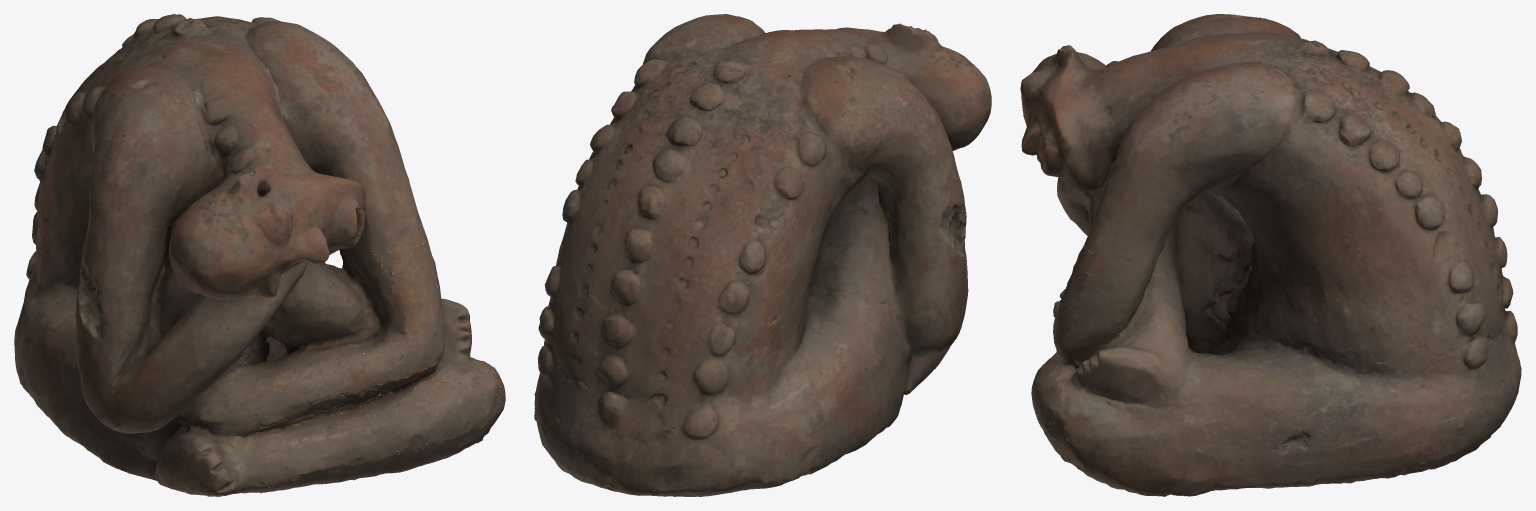
Rendered from first-83eae079485a.glb.
3 views of the same model, side by side, from view 1: azimuth 30°, elevation 25°; view 2: azimuth 150°, elevation 25°; view 3: azimuth 270°, elevation 25° (orthographic). The views are drawn at different scales.
Visible parts, largest first — view 1: ADVIMG_1981_218_SeatedFigure_LOD0_ADVIMG_1981_218_SeatedFigu (×2); view 2: ADVIMG_1981_218_SeatedFigure_LOD0_ADVIMG_1981_218_SeatedFigu; view 3: ADVIMG_1981_218_SeatedFigure_LOD0_ADVIMG_1981_218_SeatedFigu (×2).
Part boxes in pixels (<box>): ADVIMG_1981_218_SeatedFigure_LOD0_ADVIMG_1981_218_SeatedFigu (×2): <box>14,14,505,496</box>; ADVIMG_1981_218_SeatedFigure_LOD0_ADVIMG_1981_218_SeatedFigu: <box>534,14,991,496</box>; ADVIMG_1981_218_SeatedFigure_LOD0_ADVIMG_1981_218_SeatedFigu (×2): <box>1020,14,1521,496</box>.
Size of the model in its own units: 0.2467 by 0.2548 by 0.3052.
2 materials, 2 textured.
